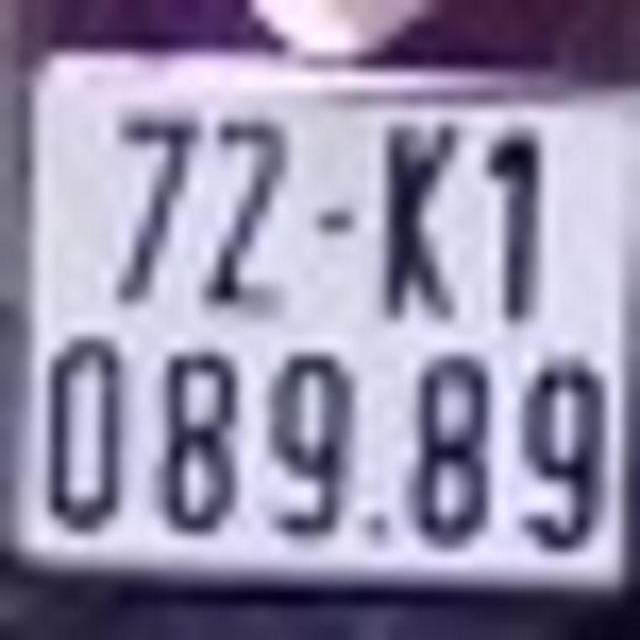0: (48, 336, 124, 534)
1: (484, 123, 544, 328)
2: (210, 120, 294, 309)
7: (114, 116, 202, 302)
8: (163, 350, 240, 532), (417, 354, 490, 545)
9: (270, 350, 352, 540), (526, 360, 606, 552)
K: (381, 115, 462, 322)
